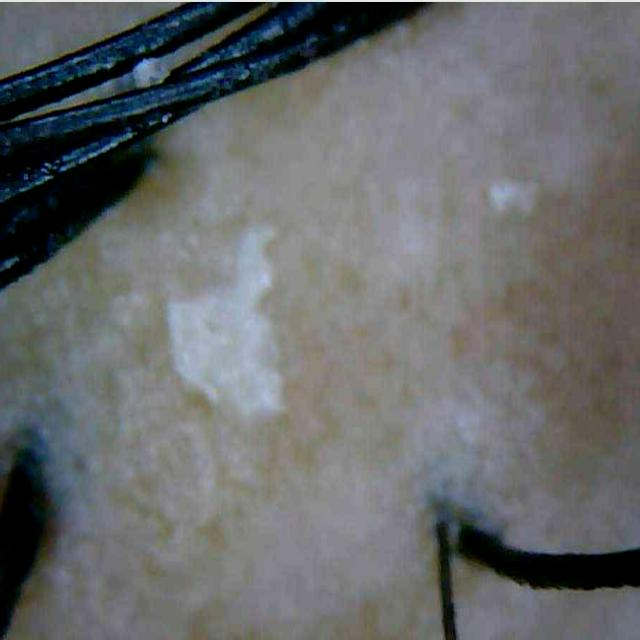d: (168, 226, 284, 417), (132, 56, 171, 88)
